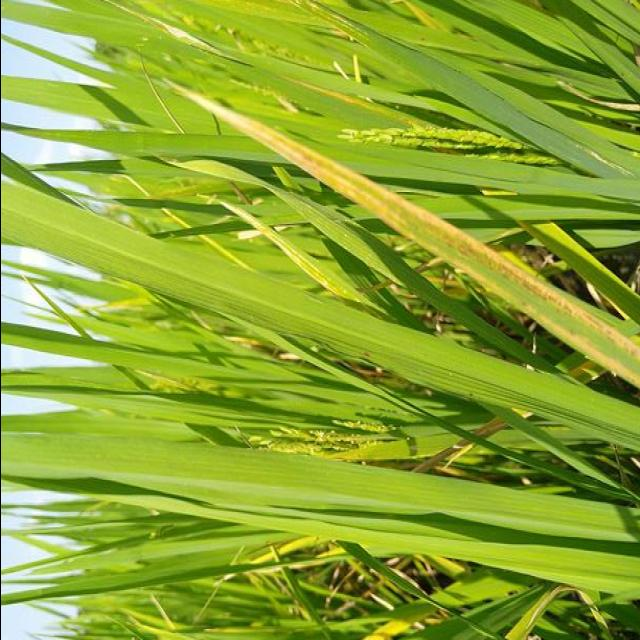Leaf Streak: (160, 79, 640, 376), (414, 440, 472, 470), (457, 416, 512, 440)
